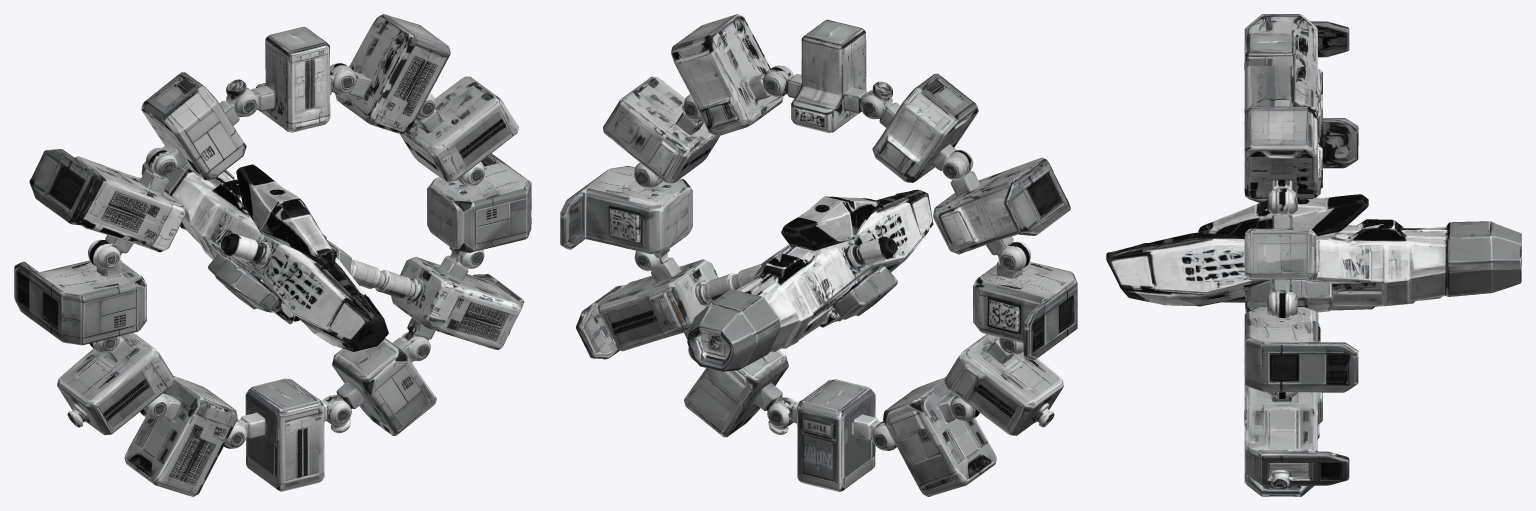
The model's file is endurance.glb.
The picture shows the model from 3 angles, left to right: view 1: azimuth 30°, elevation 25°; view 2: azimuth 150°, elevation 25°; view 3: azimuth 270°, elevation 25°; orthographic projection.
Visible parts, largest first — view 1: geometry_0; view 2: geometry_0; view 3: geometry_0.
Part boxes in pixels (box(x1,y1,x2,y2)): geometry_0: box(14, 14, 531, 496); geometry_0: box(560, 14, 1077, 496); geometry_0: box(1106, 14, 1521, 496).
Size of the model in its own units: 2 by 1.78 by 1.56.
1 material, 1 textured.
